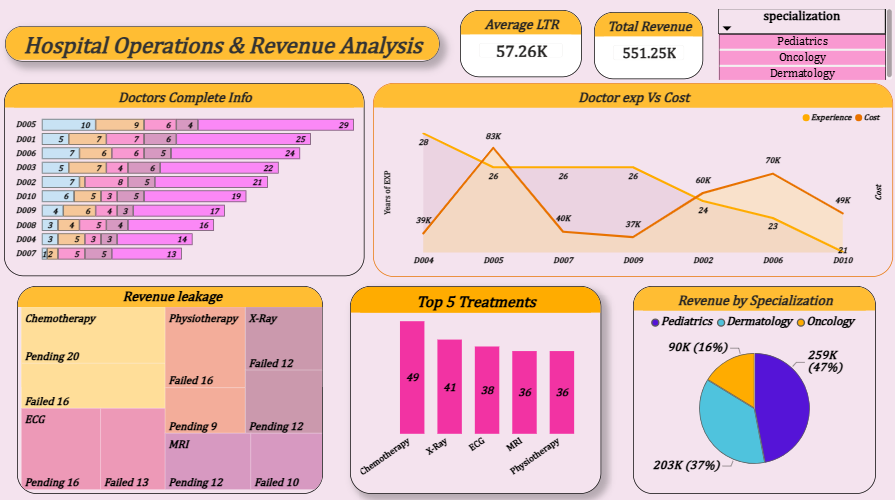

The dashboard page shown, as its layout file describes it:
{"tool":"powerbi","page":{"name":"Page 1","canvas":[1280,720],"ordinal":0},"visuals":[{"type":"textbox","title":"Hospital Operations & Revenue Analysis","box":[6.7,40.1,620.6,50.8],"z":0},{"type":"cardVisual","title":"Average LTR","fields":{"Data":["Avg(patient_revenue.patient_ltr)"]},"box":[657.1,17.1,174.3,95.7],"z":1000},{"type":"cardVisual","title":"Total Revenue","fields":{"Data":["Sum(Total revenue generated.total_revenue)"]},"box":[848,20.1,156.5,96.3],"z":2000},{"type":"barChart","title":"Doctors Complete Info","fields":{"Category":["doctor_appointments.doctor_id"],"Y":["Sum(doctor_appointments.total_appointments)","Sum(doctor_appointments.completed_counts)","Sum(doctor_appointments.cancelled_counts)","Sum(doctor_appointments.no_show_counts)","Sum(doctor_appointments.scheduled_counts)"]},"box":[5.4,121.7,514.9,275.5],"z":3000},{"type":"clusteredColumnChart","title":"Top 5 Treatments","fields":{"Category":["top_5_treatments.treatment_type"],"Y":["Sum(top_5_treatments.count_of_treatment)"]},"box":[500,411.4,358.6,297.1],"z":4000},{"type":"treemap","title":"Revenue leakage","fields":{"Group":["no_tret.treatment_type"],"Details":["no_tret.payment_status"],"Values":["CountNonNull(no_tret.payment_method)"]},"box":[24.3,411.4,437.1,297.1],"z":5000},{"type":"areaChart","title":"Doctor exp Vs Cost","fields":{"Y":["Sum(doc_exp_vs_cost.years_experience)"],"Category":["doc_exp_vs_cost.doctor_id"],"Y2":["Sum(doc_exp_vs_cost.total_revenue)"]},"box":[532.9,121.4,742.9,277.1],"z":6000},{"type":"pieChart","title":" Revenue by Specialization","fields":{"Category":["Revenue by specialization.specialization"],"Y":["Sum(Revenue by specialization.Revenue)"]},"box":[904.3,411.4,347.1,297.1],"z":7000},{"type":"tableEx","fields":{"Values":["doc_exp_vs_cost.specialization"]},"box":[1020.3,9.9,259.7,112.1],"z":8000}]}

Visuals, with their boxes in screenshot pixels (x1, y1, x2, y2), scaled from the page's 1280x720 canvas onto the 895x500 screenshot:
"Hospital Operations & Revenue Analysis" textbox: (5,28,439,63)
"Average LTR" cardVisual: (459,12,581,78)
"Total Revenue" cardVisual: (593,14,702,81)
"Doctors Complete Info" barChart: (4,85,364,276)
"Top 5 Treatments" clusteredColumnChart: (350,286,600,492)
"Revenue leakage" treemap: (17,286,323,492)
"Doctor exp Vs Cost" areaChart: (373,84,892,277)
" Revenue by Specialization" pieChart: (632,286,875,492)
tableEx - doc_exp_vs_cost.specialization: (713,7,894,85)
